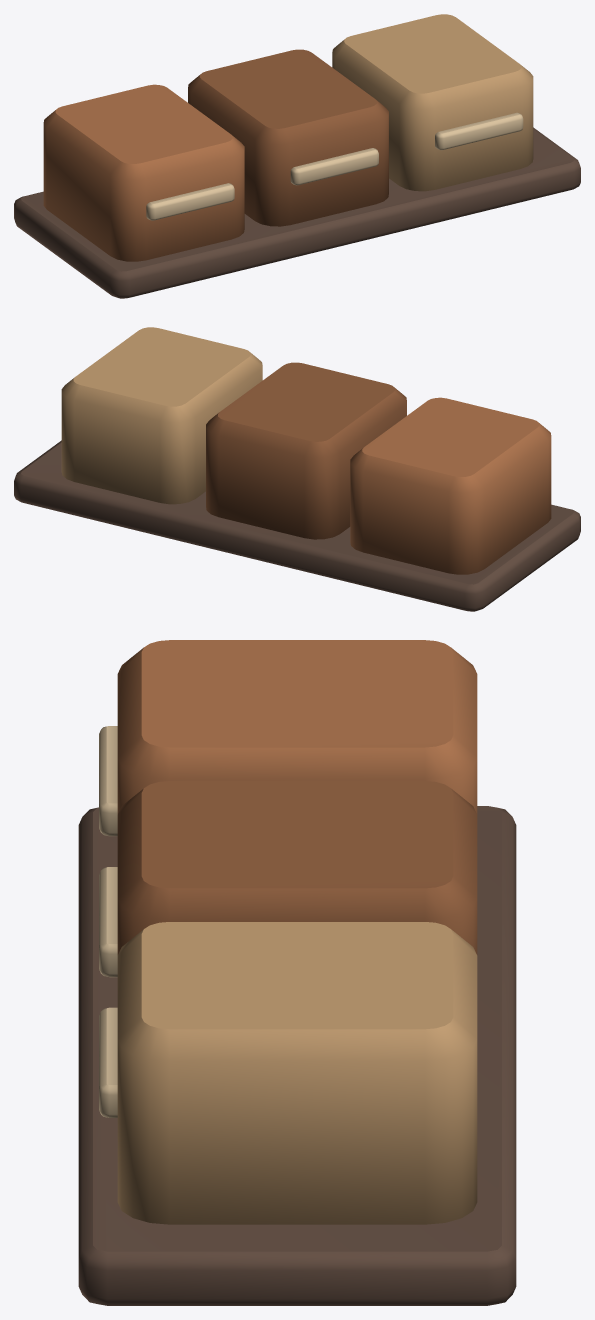
File: upgrade_storage.glb
3 renders of one model, top to bottom at view 1: azimuth 30°, elevation 25°; view 2: azimuth 150°, elevation 25°; view 3: azimuth 270°, elevation 25°, orthographic. The views are drawn at different scales.
Visible parts, largest first — view 1: UpgradeStorage; view 2: UpgradeStorage; view 3: UpgradeStorage.
Boxes of the visible parts, left/top/right/bottom form: UpgradeStorage: left=14, top=14, right=580, bottom=298; UpgradeStorage: left=14, top=327, right=580, bottom=611; UpgradeStorage: left=78, top=640, right=516, bottom=1305.
Size of the model in its own units: 2.08 by 0.5075 by 0.84.
